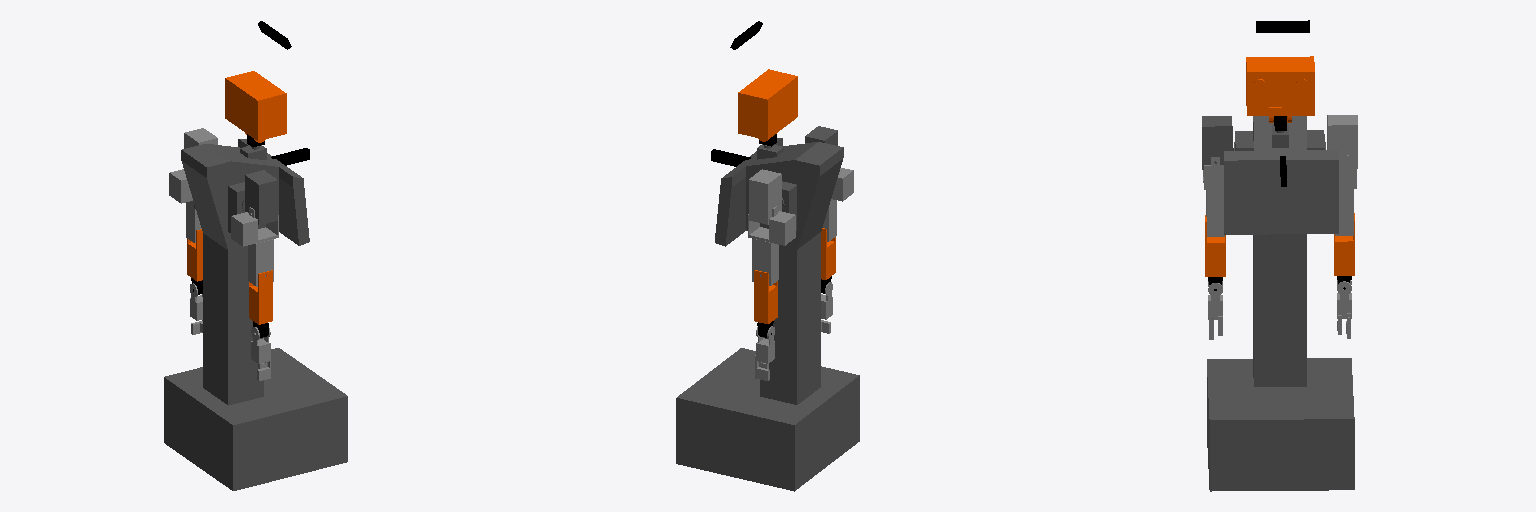
--- What the picture shows (computed from the rendered views, not written in the file) ---
3 views of the same robot in one strip: view 1: azimuth 30°, elevation 25°; view 2: azimuth 150°, elevation 25°; view 3: azimuth 270°, elevation 25° (orthographic).
Robot: tangymodel_eff — 26 links, 25 joints (18 revolute, 7 fixed); root link base_link; default pose: all joints at 0.
Visible links, largest first — view 1: body_link, head_link, right_shoulder_pitch_link, right_shoulder_roll_link, lower_right_arm, upper_right_arm, lower_left_arm, left_shoulder_roll_link, right_hand; view 2: body_link, head_link, left_shoulder_pitch_link, left_shoulder_roll_link, lower_left_arm, upper_left_arm, lower_right_arm, right_shoulder_roll_link, left_hand; view 3: body_link, head_link, right_shoulder_pitch_link, left_shoulder_pitch_link, lower_right_arm, lower_left_arm, upper_right_arm, upper_left_arm, kinect_link, right_shoulder_roll_link.
Boxes of the visible links, x1,y1,x2,y2 form: body_link: [164, 139, 347, 490]; head_link: [225, 71, 286, 142]; right_shoulder_pitch_link: [245, 170, 277, 225]; right_shoulder_roll_link: [231, 207, 278, 246]; lower_right_arm: [249, 270, 272, 324]; upper_right_arm: [248, 239, 273, 286]; lower_left_arm: [187, 229, 202, 281]; left_shoulder_roll_link: [169, 169, 192, 203]; right_hand: [251, 327, 270, 363]; body_link: [676, 138, 859, 491]; head_link: [738, 69, 797, 141]; left_shoulder_pitch_link: [749, 169, 781, 224]; left_shoulder_roll_link: [748, 206, 795, 245]; lower_left_arm: [754, 270, 777, 323]; upper_left_arm: [752, 239, 778, 285]; lower_right_arm: [821, 228, 835, 279]; right_shoulder_roll_link: [831, 168, 853, 201]; left_hand: [756, 326, 774, 363]; body_link: [1207, 116, 1354, 491]; head_link: [1246, 56, 1314, 122]; right_shoulder_pitch_link: [1202, 116, 1232, 169]; left_shoulder_pitch_link: [1327, 115, 1357, 168]; lower_right_arm: [1205, 215, 1225, 276]; lower_left_arm: [1334, 213, 1354, 275]; upper_right_arm: [1206, 190, 1224, 236]; upper_left_arm: [1335, 189, 1353, 235]; kinect_link: [1256, 20, 1309, 32]; right_shoulder_roll_link: [1203, 157, 1223, 189].
Size in the robot's own frame: 0.5045 by 0.5175 by 1.64 metres.
19 mesh visuals loaded from 19 distinct referenced files (19 binary STL).

robot.urdf — tangymodel_eff:
<robot
  name="tangymodel_eff">

<!-- ...........................................................Dummy Frame .......................................... -->
<!--
  <link
    name="dummy_link">
    <inertial>
      <origin
        xyz="0 0 0"
        rpy="0 0 0" />
      <mass
        value="0" />
      <inertia
        ixx="0"
        ixy="0"
        ixz="0"
        iyy="0"
        iyz="0"
        izz="0" />
    </inertial>
    <visual>
      <origin
        xyz="0 0 0"
        rpy="0 0 0" />
      <geometry>
        <box size="0.0001 0.0001 0.0001"/>
      </geometry>
      <material
        name="">
        <color
          rgba="0.392 0.392 0.392 1" />
      </material>
    </visual>
    <collision>
      <origin
        xyz="0 0 0"
        rpy="0 0 0" />
      <geometry>
        <box size="0.00001 0.00001 0.00001"/>
      </geometry>
    </collision>
  </link>
  <joint
    name="dummy_to_base_link"
    type="fixed">
    <parent
      link="base_link" /> 
    <child
      link="base_link" />
    <origin
      xyz="0.16 0.32 0.52"
      rpy="0 0 0" />
    <limit
      lower="0"
      upper="0"
      effort="10"
      velocity="3"/>
  </joint>
-->
<!--  ............................................................Base Link..................................................   -->
  <link name="base_link" />

<!--  ............................................................Torso..................................................   -->

  <link
    name="body_link">
    <inertial>
      <origin
        xyz="-0.15668 -0.28879 -0.1123"
        rpy="0 0 0" />
      <mass
        value="98.584" />
      <inertia
        ixx="16.47"
        ixy="-0.00095546"
        ixz="0.0055037"
        iyy="16.277"
        iyz="1.152"
        izz="2.8488" />
    </inertial>
    <visual>
      <origin
        xyz="0 0 0"
        rpy="0 0 0" />
      <geometry>
        <mesh
          filename="package://tangymodel_eff/meshes/base_link.STL" />
      </geometry>
      <material
        name="">
        <color
          rgba="0.392 0.392 0.392 1" />
      </material>
    </visual>
    <collision>
      <origin
        xyz="0 0 0"
        rpy="0 0 0" />
      <geometry>
        <mesh
          filename="package://tangymodel_eff/meshes/base_link.STL" />
      </geometry>
    </collision>
  </link>
  <joint
    name="body_to_base_link"
    type="fixed">
    <parent
      link="base_link" /> 
    <child
      link="body_link" />

    <origin
      xyz="-0.22 0.15 0.52"

      rpy="0 0 1.591" />
    <limit

      lower="0"
      upper="0"

      effort="10"
      velocity="3"/>

  </joint>

<!-- ................................................................Head............................................  -->

  <link
    name="neck_link">
    <inertial>
      <origin
        xyz="-5.5511E-17 0.03245 0"
        rpy="0 0 0" />
      <mass
        value="0.11094" />
      <inertia
        ixx="5.0402E-05"
        ixy="-1.3803E-21"
        ixz="-1.5165E-22"
        iyy="3.5718E-05"
        iyz="-1.782E-20"
        izz="4.4646E-05" />
    </inertial>
    <visual>
      <origin
        xyz="0 0 0"
        rpy="0 0 0" />
      <geometry>
        <mesh
          filename="package://tangymodel_eff/meshes/neck_link.STL" />
      </geometry>
      <material
        name="">
        <color
          rgba="0 0 0 1" />
      </material>
    </visual>
    <collision>
      <origin
        xyz="0 0 0"
        rpy="0 0 0" />
      <geometry>
        <mesh
          filename="package://tangymodel_eff/meshes/neck_link.STL" />
      </geometry>
    </collision>
  </link>
  <joint
    name="neck_to_z_revolute"
    type="revolute">
    <origin
      xyz="-0.15677 -0.31736 0.68915"
      rpy="1.5708 0 0" />
    <parent
      link="body_link" />
    <child
      link="neck_link" />
    <axis
      xyz="0 -1 0" />
    <limit
      lower="-0.7853"
      upper="0.7853"
      effort="10"
      velocity="3" />
  </joint>
  <link
    name="head_link">
    <inertial>
      <origin
        xyz="0.00038888 0.10329 0"
        rpy="0 0 0" />
      <mass
        value="4.4164" />
      <inertia
        ixx="0.028366"
        ixy="1.9027E-06"
        ixz="1.2865E-18"
        iyy="0.023632"
        iyz="1.4521E-19"
        izz="0.015291" />
    </inertial>
    <visual>
      <origin
        xyz="0 0 0"
        rpy="0 0 0" />
      <geometry>
        <mesh
          filename="package://tangymodel_eff/meshes/head_link.STL" />
      </geometry>
      <material
        name="">
        <color
          rgba="1 0.416 0 1" />
      </material>
    </visual>
    <collision>
      <origin
        xyz="0 0 0"
        rpy="0 0 0" />
      <geometry>
        <mesh
          filename="package://tangymodel_eff/meshes/head_link.STL" />
      </geometry>
    </collision>
  </link>
  <joint
    name="z_revolute_to_x_revolute"
    type="revolute">
    <origin
      xyz="0 0.05 0"
      rpy="1.5708 -1.5708 -1.5708" />
    <parent
      link="neck_link" />
    <child
      link="head_link" />
    <axis
      xyz="0 0 1" />
    <limit
      lower="-0.3926"
      upper="0.3926"
      effort="10"
      velocity="3" />
  </joint>


<!-- ..............................................................Right Arm...................................................... -->

  <link
    name="right_shoulder_pitch_link">
    <inertial>
      <origin
        xyz="-0.0050069 0.04493 -0.054937"
        rpy="0 0 0" />
      <mass
        value="1.282" />
      <inertia
        ixx="0.0038059"
        ixy="4.8043E-07"
        ixz="4.9634E-07"
        iyy="0.0017545"
        iyz="-3.6072E-06"
        izz="0.0034183" />
    </inertial>
    <visual>
      <origin
        xyz="0 0 0"
        rpy="0 0 0" />
      <geometry>
        <mesh
          filename="package://tangymodel_eff/meshes/right_shoulder_pitch_link.STL" />
      </geometry>
      <material
        name="">
        <color
          rgba="0.392 0.392 0.392 1" />
      </material>
    </visual>
    <collision>
      <origin
        xyz="0 0 0"
        rpy="0 0 0" />
      <geometry>
        <mesh
          filename="package://tangymodel_eff/meshes/right_shoulder_pitch_link.STL" />
      </geometry>
    </collision>
  </link>
  <joint
    name="right_shoulder_x_revolute"
    type="revolute">
    <origin
      xyz="-0.30977 -0.20989 0.54535"
      rpy="1.5708 0 1.5708" />
    <parent
      link="body_link" />
    <child
      link="right_shoulder_pitch_link" />
    <axis
      xyz="0 0 -1" />
    <limit
      lower="-0.34907"
      upper="3.35103"
      effort="100"
      velocity="3" />
  </joint>
  <link
    name="right_shoulder_roll_link">
    <inertial>
      <origin
        xyz="-0.01 -0.0637 -0.05109"
        rpy="0 0 0" />
      <mass
        value="0.57779" />
      <inertia
        ixx="0.0013906"
        ixy="-6.7526E-20"
        ixz="-9.213E-21"
        iyy="0.0012248"
        iyz="-0.00011954"
        izz="0.00077311" />
    </inertial>
    <visual>
      <origin
        xyz="0 0 0"
        rpy="0 0 0" />
      <geometry>
        <mesh
          filename="package://tangymodel_eff/meshes/right_shoulder_roll_link.STL" />
      </geometry>
      <material
        name="">
        <color
          rgba="0.588 0.588 0.588 1" />
      </material>
    </visual>
    <collision>
      <origin
        xyz="0 0 0"
        rpy="0 0 0" />
      <geometry>
        <mesh
          filename="package://tangymodel_eff/meshes/right_shoulder_roll_link.STL" />
      </geometry>
    </collision>
  </link>
  <joint
    name="upper_right_arm_y_revolute_joint"
    type="revolute">
    <origin
      xyz="0 0 -0.05"
      rpy="0 -1.5708 0" />
    <parent
      link="right_shoulder_pitch_link" />
    <child
      link="right_shoulder_roll_link" />
    <axis
      xyz="0 0 1" />
    <limit
      lower="-1.9199"
      upper="0"
      effort="100"
      velocity="3" />
  </joint>
  <link
    name="upper_right_arm">
    <inertial>
      <origin
        xyz="1.6669E-05 -0.086496 0"
        rpy="0 0 0" />
      <mass
        value="0.76566" />
      <inertia
        ixx="0.0022039"
        ixy="-6.3819E-07"
        ixz="-4.4538E-20"
        iyy="0.00058852"
        iyz="-1.4684E-19"
        izz="0.0020752" />
    </inertial>
    <visual>
      <origin
        xyz="0 0 0"
        rpy="0 0 0" />
      <geometry>
        <mesh
          filename="package://tangymodel_eff/meshes/upper_right_arm.STL" />
      </geometry>
      <material
        name="">
        <color
          rgba="0.588 0.588 0.588 1" />
      </material>
    </visual>
    <collision>
      <origin
        xyz="0 0 0"
        rpy="0 0 0" />
      <geometry>
        <mesh
          filename="package://tangymodel_eff/meshes/upper_right_arm.STL" />
      </geometry>
    </collision>
  </link>
  <joint
    name="upper_right_arm_z_revolute_joint"
    type="revolute">
    <origin
      xyz="-0.01 -0.11 0"
      rpy="0 0 0" />
    <parent
      link="right_shoulder_roll_link" />
    <child
      link="upper_right_arm" />
    <axis
      xyz="0 -1 0" />
    <limit
      lower="-1.8326"
      upper="1.8326"
      effort="100"
      velocity="3" />
  </joint>
  <link
    name="lower_right_arm">
    <inertial>
      <origin
        xyz="-3.0531E-16 -0.11496 5.5511E-17"
        rpy="0 0 0" />
      <mass
        value="0.57079" />
      <inertia
        ixx="0.0013783"
        ixy="2.3875E-18"
        ixz="-6.9845E-21"
        iyy="0.00043224"
        iyz="-1.2881E-19"
        izz="0.0012882" />
    </inertial>
    <visual>
      <origin
        xyz="0 0 0"
        rpy="0 0 0" />
      <geometry>
        <mesh
          filename="package://tangymodel_eff/meshes/lower_right_arm.STL" />
      </geometry>
      <material
        name="">
        <color
          rgba="1 0.416 0 1" />
      </material>
    </visual>
    <collision>
      <origin
        xyz="0 0 0"
        rpy="0 0 0" />
      <geometry>
        <mesh
          filename="package://tangymodel_eff/meshes/lower_right_arm.STL" />
      </geometry>
    </collision>
  </link>
  <joint
    name="upper_to_lower_right_joint"
    type="revolute">
    <origin
      xyz="0 -0.1365 0"
      rpy="0 1.5708 0" />
    <parent
      link="upper_right_arm" />
    <child
      link="lower_right_arm" />
    <axis
      xyz="0 0 1" />
    <limit
      lower="-2.2515"
      upper="0"
      effort="100"
      velocity="3" />
  </joint>
  <link
    name="right_wrist_link">
    <inertial>
      <origin
        xyz="-9.359E-05 0.031821 5.5511E-17"
        rpy="0 0 0" />
      <mass
        value="0.094409" />
      <inertia
        ixx="3.9877E-05"
        ixy="-1.1645E-07"
        ixz="4.4633E-21"
        iyy="2.5724E-05"
        iyz="-1.1782E-20"
        izz="3.9412E-05" />
    </inertial>
    <visual>
      <origin
        xyz="0 0 0"
        rpy="0 0 0" />
      <geometry>
        <mesh
          filename="package://tangymodel_eff/meshes/right_wrist_link.STL" />
      </geometry>
      <material
        name="">
        <color
          rgba="0 0 0 1" />
      </material>
    </visual>
    <collision>
      <origin
        xyz="0 0 0"
        rpy="0 0 0" />
      <geometry>
        <mesh
          filename="package://tangymodel_eff/meshes/right_wrist_link.STL" />
      </geometry>
    </collision>
  </link>
  <joint
    name="wrist_right_arm_z_revolute_joint"
    type="revolute">
    <origin
      xyz="0 -0.19 0"
      rpy="3.141 0 0" />
    <parent
      link="lower_right_arm" />
    <child
      link="right_wrist_link" />
    <axis
      xyz="0 1 0" />
    <limit
      lower="-1.5708"
      upper="1.5708"
      effort="25"
      velocity="3" />
  </joint>
  <link
    name="right_hand">
    <inertial>
      <origin
        xyz="-5.5511E-17 -2.713E-05 0.061837"
        rpy="0 0 0" />
      <mass
        value="0.19902" />
      <inertia
        ixx="0.00022561"
        ixy="1.0575E-21"
        ixz="9.7799E-21"
        iyy="0.00021686"
        iyz="-1.7907E-07"
        izz="8.8688E-05" />
    </inertial>
    <visual>
      <origin
        xyz="0 0 0"
        rpy="0 0 0" />
      <geometry>
        <mesh
          filename="package://tangymodel_eff/meshes/right_hand.STL" />
      </geometry>
      <material
        name="">
        <color
          rgba="0.588 0.588 0.588 1" />
      </material>
    </visual>
    <collision>
      <origin
        xyz="0 0 0"
        rpy="0 0 0" />
      <geometry>
        <mesh
          filename="package://tangymodel_eff/meshes/right_hand.STL" />
      </geometry>
    </collision>
  </link>
  <joint
    name="lower_to_wrist_right_arm"
    type="revolute">
    <origin
      xyz="0 0.05 0"
      rpy="-1.5708 -1.5708 0" />
    <parent
      link="right_wrist_link" />
    <child
      link="right_hand" />
    <axis
      xyz="0 -1 0" />
    <limit
      lower="-1.0472"
      upper="1.48353"
      effort="0"
      velocity="0" />
  </joint>
  <link
    name="right_top_fingers">
    <inertial>
      <origin
        xyz="-0.0072645 -5.5511E-17 0.055647"
        rpy="0 0 0" />
      <mass
        value="0.033357" />
      <inertia
        ixx="1.0957E-05"
        ixy="2.9435E-21"
        ixz="2.9379E-06"
        iyy="1.8112E-05"
        iyz="-8.2775E-22"
        izz="8.4159E-06" />
    </inertial>
    <visual>
      <origin
        xyz="0 0 0"
        rpy="0 0 0" />
      <geometry>
        <mesh
          filename="package://tangymodel_eff/meshes/right_top_fingers.STL" />
      </geometry>
      <material
        name="">
        <color
          rgba="0.588 0.588 0.588 1" />
      </material>
    </visual>
    <collision>
      <origin
        xyz="0 0 0"
        rpy="0 0 0" />
      <geometry>
        <mesh
          filename="package://tangymodel_eff/meshes/right_top_fingers.STL" />
      </geometry>
    </collision>
  </link>
  <joint
    name="wrist_to_finger1_right_arm"
    type="revolute">
    <origin
      xyz="0.015 0 0.095"
      rpy="0 0 1.5708" />
    <parent
      link="right_hand" />
    <child
      link="right_top_fingers" />
    <axis
      xyz="1 0 0" />
    <limit
      lower="-0.68"
      upper="0"
      effort="50"
      velocity="3" />
  </joint>
  <link
    name="right_bottom_fingers">
    <inertial>
      <origin
        xyz="0.016728 0.042728 0"
        rpy="0 0 0" />
      <mass
        value="0.018277" />
      <inertia
        ixx="4.798E-06"
        ixy="-9.3943E-07"
        ixz="-1.8907E-22"
        iyy="1.8711E-06"
        iyz="9.6009E-22"
        izz="5.9803E-06" />
    </inertial>
    <visual>
      <origin
        xyz="0 0 0"
        rpy="0 0 0" />
      <geometry>
        <mesh
          filename="package://tangymodel_eff/meshes/right_bottom_fingers.STL" />
      </geometry>
      <material
        name="">
        <color
          rgba="0.588 0.588 0.588 1" />
      </material>
    </visual>
    <collision>
      <origin
        xyz="0 0 0"
        rpy="0 0 0" />
      <geometry>
        <mesh
          filename="package://tangymodel_eff/meshes/right_bottom_fingers.STL" />
      </geometry>
    </collision>
  </link>
  <joint
    name="wrist_to_finger2_right_arm"
    type="revolute">
    <origin
      xyz="-0.015 0 0.095"
      rpy="1.5708 0 -1.5708" />
    <parent
      link="right_hand" />
    <child
      link="right_bottom_fingers" />
    <axis
      xyz="-1 0 0" />
    <limit
      lower="0"
      upper="0.68"
      effort="50"
      velocity="3" />
  </joint>


<!-- .................................................................Left Shoulder.............................................  -->

  <link
    name="left_shoulder_pitch_link">
    <inertial>
      <origin
        xyz="0.0050069 0.04493 -0.051164"
        rpy="0 0 0" />
      <mass
        value="1.282" />
      <inertia
        ixx="0.0038059"
        ixy="-4.8043E-07"
        ixz="-4.9634E-07"
        iyy="0.0017545"
        iyz="-3.6072E-06"
        izz="0.0034183" />
    </inertial>
    <visual>
      <origin
        xyz="0 0 0"
        rpy="0 0 0" />
      <geometry>
        <mesh
          filename="package://tangymodel_eff/meshes/left_shoulder_pitch_link.STL" />
      </geometry>
      <material
        name="">
        <color
          rgba="0.588 0.588 0.588 1" />
      </material>
    </visual>
    <collision>
      <origin
        xyz="0 0 0"
        rpy="0 0 0" />
      <geometry>
        <mesh
          filename="package://tangymodel_eff/meshes/left_shoulder_pitch_link.STL" />
      </geometry>
    </collision>
  </link>
  <joint
    name="left_shoulder_x_revolute"
    type="revolute">
    <origin
      xyz="0 -0.20989 0.54535"
      rpy="1.5708 0 -1.5708" />
    <parent
      link="body_link" />
    <child
      link="left_shoulder_pitch_link" />
    <axis
      xyz="0 0 1" />
    <limit
      lower="-0.34907"
      upper="3.35103"
      effort="100"
      velocity="3" />
  </joint>
  <link
    name="left_shoulder_roll_link">
    <inertial>
      <origin
        xyz="0.0062272 -0.0637 -0.05109"
        rpy="0 0 0" />
      <mass
        value="0.57779" />
      <inertia
        ixx="0.0013906"
        ixy="4.8396E-20"
        ixz="-2.5898E-19"
        iyy="0.0012248"
        iyz="-0.00011954"
        izz="0.00077311" />
    </inertial>
    <visual>
      <origin
        xyz="0 0 0"
        rpy="0 0 0" />
      <geometry>
        <mesh
          filename="package://tangymodel_eff/meshes/left_shoulder_roll_link.STL" />
      </geometry>
      <material
        name="">
        <color
          rgba="0.588 0.588 0.588 1" />
      </material>
    </visual>
    <collision>
      <origin
        xyz="0 0 0"
        rpy="0 0 0" />
      <geometry>
        <mesh
          filename="package://tangymodel_eff/meshes/left_shoulder_roll_link.STL" />
      </geometry>
    </collision>
  </link>
  <joint
    name="upper_left_arm_y_revolute_joint"
    type="revolute">
    <origin
      xyz="0 0 -0.05"
      rpy="0 1.5708 0" />
    <parent
      link="left_shoulder_pitch_link" />
    <child
      link="left_shoulder_roll_link" />
    <axis
      xyz="0 0 -1" />
    <limit
      lower="-1.9198"
      upper="0"
      effort="100"
      velocity="3" />
  </joint>
  <link
    name="upper_left_arm">
    <inertial>
      <origin
        xyz="1.6671E-05 -0.085974 -8.3267E-17"
        rpy="0 0 0" />
      <mass
        value="0.76557" />
      <inertia
        ixx="0.0022032"
        ixy="-6.3806E-07"
        ixz="-7.4539E-20"
        iyy="0.00058852"
        iyz="1.3527E-18"
        izz="0.0020746" />
    </inertial>
    <visual>
      <origin
        xyz="0 0 0"
        rpy="0 0 0" />
      <geometry>
        <mesh
          filename="package://tangymodel_eff/meshes/upper_left_arm.STL" />
      </geometry>
      <material
        name="">
        <color
          rgba="0.588 0.588 0.588 1" />
      </material>
    </visual>
    <collision>
      <origin
        xyz="0 0 0"
        rpy="0 0 0" />
      <geometry>
        <mesh
          filename="package://tangymodel_eff/meshes/upper_left_arm.STL" />
      </geometry>
    </collision>
  </link>
  <joint
    name="upper_left_arm_z_revolute_joint"
    type="revolute">
    <origin
      xyz="0.0062272 -0.11003 0"
      rpy="0 0 0" />
    <parent
      link="left_shoulder_roll_link" />
    <child
      link="upper_left_arm" />
    <axis
      xyz="0 1 0" />
    <limit
      lower="-1.8326"
      upper="1.8326"
      effort="100"
      velocity="3" />
  </joint>
  <link
    name="lower_left_arm">
    <inertial>
      <origin
        xyz="-1.3878E-16 -0.11496 8.9512E-16"
        rpy="0 0 0" />
      <mass
        value="0.57079" />
      <inertia
        ixx="0.0013783"
        ixy="7.8732E-19"
        ixz="1.3553E-19"
        iyy="0.00043224"
        iyz="-6.3072E-18"
        izz="0.0012882" />
    </inertial>
    <visual>
      <origin
        xyz="0 0 0"
        rpy="0 0 0" />
      <geometry>
        <mesh
          filename="package://tangymodel_eff/meshes/lower_left_arm.STL" />
      </geometry>
      <material
        name="">
        <color
          rgba="1 0.416 0 1" />
      </material>
    </visual>
    <collision>
      <origin
        xyz="0 0 0"
        rpy="0 0 0" />
      <geometry>
        <mesh
          filename="package://tangymodel_eff/meshes/lower_left_arm.STL" />
      </geometry>
    </collision>
  </link>
  <joint
    name="upper_to_lower_left_joint"
    type="revolute">
    <origin
      xyz="0 -0.13597 0"
      rpy="0 -1.5708 0" />
    <parent
      link="upper_left_arm" />
    <child
      link="lower_left_arm" />
    <axis
      xyz="0 0 -1" />
    <limit
      lower="-2.2515"
      upper="0"
      effort="100"
      velocity="3" />
  </joint>
  <link
    name="left_wrist_link">
    <inertial>
      <origin
        xyz="-9.359E-05 0.031809 -9.0206E-17"
        rpy="0 0 0" />
      <mass
        value="0.094409" />
      <inertia
        ixx="3.9877E-05"
        ixy="-1.1645E-07"
        ixz="-2.8058E-21"
        iyy="2.5724E-05"
        iyz="-3.121E-20"
        izz="3.9412E-05" />
    </inertial>
    <visual>
      <origin
        xyz="0 0 0"
        rpy="0 0 0" />
      <geometry>
        <mesh
          filename="package://tangymodel_eff/meshes/left_wrist_link.STL" />
      </geometry>
      <material
        name="">
        <color
          rgba="0 0 0 1" />
      </material>
    </visual>
    <collision>
      <origin
        xyz="0 0 0"
        rpy="0 0 0" />
      <geometry>
        <mesh
          filename="package://tangymodel_eff/meshes/left_wrist_link.STL" />
      </geometry>
    </collision>
  </link>
  <joint
    name="wrist_left_arm_z_revolute_joint"
    type="revolute">
    <origin
      xyz="0 -0.19001 0"
      rpy="3.141 0 0" />
    <parent
      link="lower_left_arm" />
    <child
      link="left_wrist_link" />
    <axis
      xyz="0 -1 0" />
    <limit
      lower="-1.5708"
      upper="1.5708"
      effort="25"
      velocity="3" />
  </joint>
  <link
    name="left_hand">
    <inertial>
      <origin
        xyz="0 -2.713E-05 0.061825"
        rpy="0 0 0" />
      <mass
        value="0.19902" />
      <inertia
        ixx="0.00022561"
        ixy="-4.5316E-20"
        ixz="8.7405E-20"
        iyy="0.00021686"
        iyz="-1.7907E-07"
        izz="8.8688E-05" />
    </inertial>
    <visual>
      <origin
        xyz="0 0 0"
        rpy="0 0 0" />
      <geometry>
        <mesh
          filename="package://tangymodel_eff/meshes/left_hand.STL" />
      </geometry>
      <material
        name="">
        <color
          rgba="0.588 0.588 0.588 1" />
      </material>
    </visual>
    <collision>
      <origin
        xyz="0 0 0"
        rpy="0 0 0" />
      <geometry>
        <mesh
          filename="package://tangymodel_eff/meshes/left_hand.STL" />
      </geometry>
    </collision>
  </link>
  <joint
    name="lower_to_wrist_left_arm"
    type="revolute">
    <origin
      xyz="0 0.05 0"
      rpy="-1.5708 1.5708 0" />
    <parent
      link="left_wrist_link" />
    <child
      link="left_hand" />
    <axis
      xyz="0 1 0" />
    <limit
      lower="-1.0472"
      upper="1.48353"
      effort="25"
      velocity="3" />
  </joint>
  <link
    name="left_top_fingers">
    <inertial>
      <origin
        xyz="-0.0072645 0 0.055647"
        rpy="0 0 0" />
      <mass
        value="0.033357" />
      <inertia
        ixx="1.0957E-05"
        ixy="-1.8449E-20"
        ixz="2.9379E-06"
        iyy="1.8112E-05"
        iyz="-7.0054E-21"
        izz="8.4159E-06" />
    </inertial>
    <visual>
      <origin
        xyz="0 0 0"
        rpy="0 0 0" />
      <geometry>
        <mesh
          filename="package://tangymodel_eff/meshes/left_top_fingers.STL" />
      </geometry>
      <material
        name="">
        <color
          rgba="0.588 0.588 0.588 1" />
      </material>
    </visual>
    <collision>
      <origin
        xyz="0 0 0"
        rpy="0 0 0" />
      <geometry>
        <mesh
          filename="package://tangymodel_eff/meshes/left_top_fingers.STL" />
      </geometry>
    </collision>
  </link>
  <joint
    name="wrist_to_finger1_left_arm"
    type="revolute">
    <origin
      xyz="-0.015 0 0.094988"
      rpy="0 0 1.5708" />
    <parent
      link="left_hand" />
    <child
      link="left_top_fingers" />
    <axis
      xyz="1 0 0" />
    <limit
      lower="-0.68"
      upper="0"
      effort="10"
      velocity="3" />
  </joint>
  <link
    name="left_bottom_fingers">
    <inertial>
      <origin
        xyz="0.0167281620288509 -0.0427282906188924 -4.85722573273506E-17"
        rpy="0 0 0" />
      <mass
        value="0.0182768252295753" />
      <inertia
        ixx="4.7979749986511E-06"
        ixy="9.39430284405547E-07"
        ixz="-2.39551505395357E-21"
        iyy="1.87112397057946E-06"
        iyz="-2.00425862421599E-21"
        izz="5.98034326538814E-06" />
    </inertial>
    <visual>
      <origin
        xyz="0 0 0"
        rpy="0 0 0" />
      <geometry>
        <mesh
          filename="package://tangymodel_eff/meshes/left_bottom_fingers.STL" />
      </geometry>
      <material
        name="">
        <color
          rgba="0.588 0.588 0.588 1" />
      </material>
    </visual>
    <collision>
      <origin
        xyz="0 0 0"
        rpy="0 0 0" />
      <geometry>
        <mesh
          filename="package://tangymodel_eff/meshes/left_bottom_fingers.STL" />
      </geometry>
    </collision>
  </link>
  <joint
    name="wrist_to_finger2_left_arm"
    type="revolute">
    <origin
      xyz="0.015 0 0.094988"
      rpy="-1.5708 0 -1.5708" />
    <parent
      link="left_hand" />
    <child
      link="left_bottom_fingers" />
    <axis
      xyz="-1 0 0" />
    <limit
      lower="0"
      upper="0.68"
      effort="10"
      velocity="3" />
  </joint>


<!-- ............................................................Kinect Sensors................................................ -->
<!-- KINECT 1 -->
  <joint name="kinect_joint" type="fixed">
    <limit effort="1000.0" lower="0" upper="0" velocity="0"/>
    <parent link="body_link"/>
    <child link="kinect_link"/>
    <origin rpy="0 2.7 -1.5705" xyz="-.15 -0.40 1.10"/>
  </joint>
  <link name="kinect_link">
    <visual>
      <geometry>
        <box size="0.02 0.18 0.04"/>
      </geometry>
      <material name="grey">
        <color rgba="0 0 0 0.5"/>
      </material>
    </visual>
    <collision>
      <geometry>
        <box size="0.0001 0.0001 0.0001"/>
      </geometry>
    </collision>
    <inertial>
      <mass value="0.01"/>
      <inertia ixx=".0001" ixy="0.0" ixz="0.0" iyy=".0001" iyz="0.0" izz=".0001"/>
    </inertial>
  </link>
  <joint name="kinect_depth_joint" type="fixed">
    <limit effort="1000.0" lower="0" upper="0" velocity="0"/>
    <parent link="kinect_link"/>
    <child link="kinect_depth_frame"/>
    <origin rpy="0 -0.05 -1.5705" xyz="0 0 0"/>
  </joint>
  <link name="kinect_depth_frame" >
    <visual>
      <geometry>
        <box size="0.0001 0.0001 0.0001"/>
      </geometry>
      <material name="grey">
        <color rgba="0 0 0 0.5"/>
      </material>
    </visual>
    <collision>
      <geometry>
        <box size="0.0001 0.0001 0.0001"/>
      </geometry>
    </collision>
    <inertial>
      <mass value="0.01"/>
      <inertia ixx=".0001" ixy="0.0" ixz="0.0" iyy=".0001" iyz="0.0" izz=".0001"/>
    </inertial>
  </link>
  <joint name="kinect_optical_joint" type="fixed">
    <origin rpy="0 0.0 0" xyz="0 0.001 0"/>
    <parent link="kinect_depth_frame"/>
    <child link="kinect_rgb_optical_frame"/>
  </joint>
  <link name="kinect_rgb_optical_frame" >
    <visual>
      <geometry>
        <box size="0.0001 0.0001 0.0001"/>
      </geometry>
      <material name="grey">
        <color rgba="0 0 0 0.5"/>
      </material>
    </visual>
    <collision>
      <geometry>
        <box size="0.0001 0.0001 0.0001"/>
      </geometry>
    </collision>
    <inertial>
      <mass value="0.01"/>
      <inertia ixx=".0001" ixy="0.0" ixz="0.0" iyy=".0001" iyz="0.0" izz=".0001"/>
    </inertial>
  </link>

<!-- KINECT 2 (LOWER) -->

  <joint name="kinect2_joint" type="fixed">
    <limit effort="1000.0" lower="0" upper="0" velocity="0"/>
    <parent link="body_link"/>
    <child link="kinect2_link"/>
    <origin rpy="0 0 3.14" xyz="-0.15 -0.45 0.60"/>
  </joint>
  <link name="kinect2_link">
    <visual>
      <geometry>
        <box size="0.02 0.18 0.04"/>
      </geometry>
      <material name="grey">
        <color rgba="0 0 0 0.5"/>
      </material>
    </visual>
    <collision>
      <geometry>
        <box size="0.0001 0.0001 0.0001"/>
      </geometry>
    </collision>
    <inertial>
      <mass value="0.01"/>
      <inertia ixx=".0001" ixy="0.0" ixz="0.0" iyy=".0001" iyz="0.0" izz=".0001"/>
    </inertial>
  </link>
  <joint name="kinect2_depth_joint" type="fixed">
    <limit effort="1000.0" lower="0" upper="0" velocity="0"/>
    <parent link="kinect2_link"/>
    <child link="kinect2_depth_frame"/>
    <origin rpy="0 -0.05 -1.5705" xyz="0 0 0"/>
  </joint>
  <link name="kinect2_depth_frame" >
    <visual>
      <geometry>
        <box size="0.0001 0.0001 0.0001"/>
      </geometry>
      <material name="grey">
        <color rgba="0 0 0 0.5"/>
      </material>
    </visual>
    <collision>
      <geometry>
        <box size="0.0001 0.0001 0.0001"/>
      </geometry>
    </collision>
    <inertial>
      <mass value="0.01"/>
      <inertia ixx=".0001" ixy="0.0" ixz="0.0" iyy=".0001" iyz="0.0" izz=".0001"/>
    </inertial>
  </link>
  <joint name="kinect2_optical_joint" type="fixed">
    <origin rpy="0 0.0 0" xyz="0 0.001 0"/>
    <parent link="kinect2_depth_frame"/>
    <child link="kinect2_rgb_optical_frame"/>
  </joint>
  <link name="kinect2_rgb_optical_frame" >
    <visual>
      <geometry>
        <box size="0.0001 0.0001 0.0001"/>
      </geometry>
      <material name="grey">
        <color rgba="0 0 0 0.5"/>
      </material>
    </visual>
    <collision>
      <geometry>
        <box size="0.0001 0.0001 0.0001"/>
      </geometry>
    </collision>
    <inertial>
      <mass value="0.01"/>
      <inertia ixx=".0001" ixy="0.0" ixz="0.0" iyy=".0001" iyz="0.0" izz=".0001"/>
    </inertial>
  </link>


</robot>
